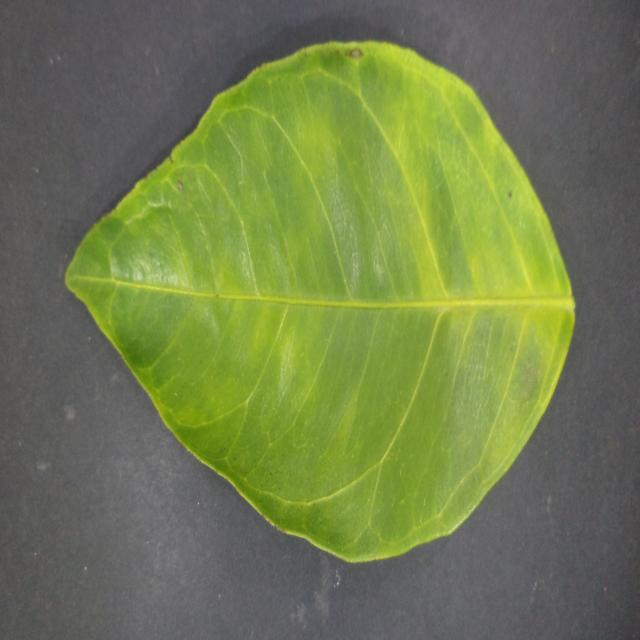greening: (65, 42, 575, 560)
